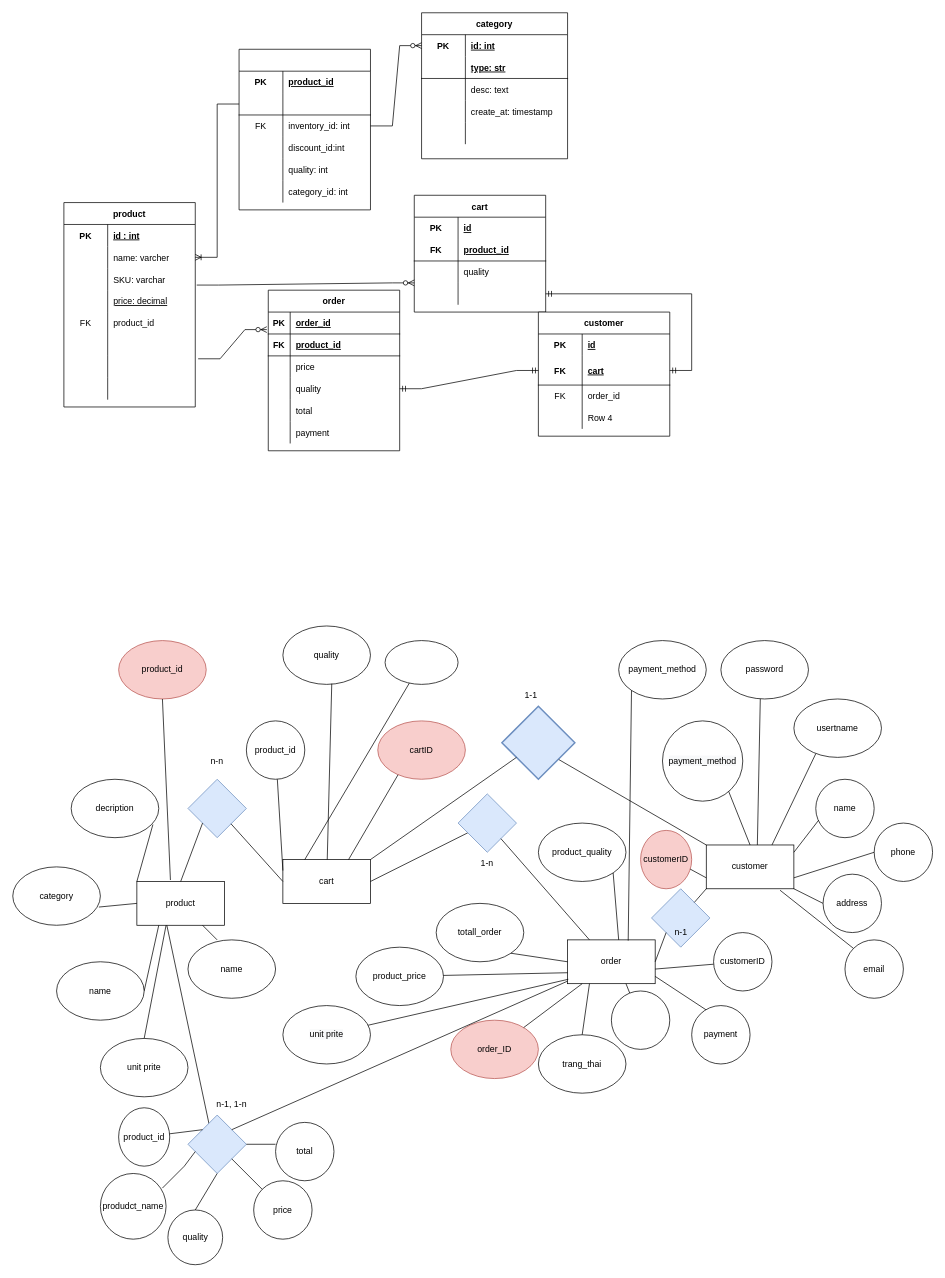
Image size: 945x1278. Some labels were removed from this diagram. Each missing label, with the box of its shape:
c-c: (501, 705, 575, 780)
c-o: (457, 793, 516, 852)
o-c: (651, 888, 710, 947)
order_item: (187, 1114, 246, 1173)
p-c: (187, 779, 246, 838)
product_detail: (238, 49, 370, 210)
shipping_time: (611, 990, 670, 1049)
uini prite: (384, 640, 458, 684)
